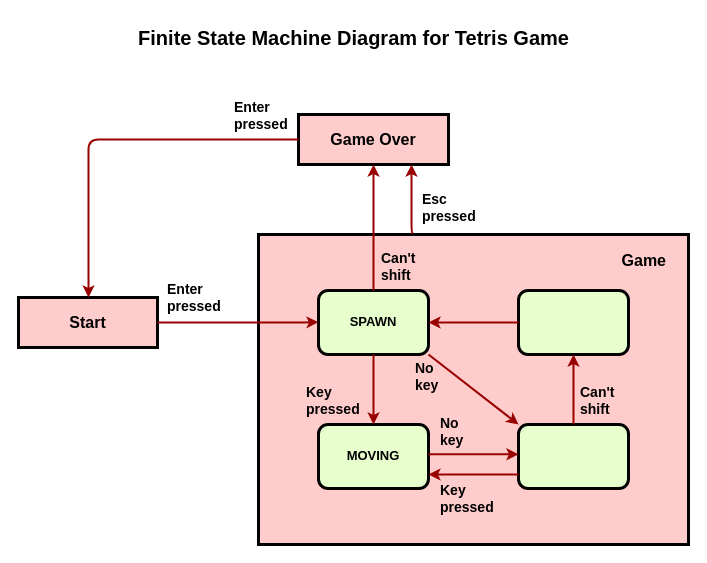
Image size: 707x563. Some labels were removed from this diagram. The box of each missing label's shape, as (x1, y1, x2, y2) in pixels:
ATTACHING: (516, 288, 630, 356)
SHIFTING: (516, 422, 630, 490)
